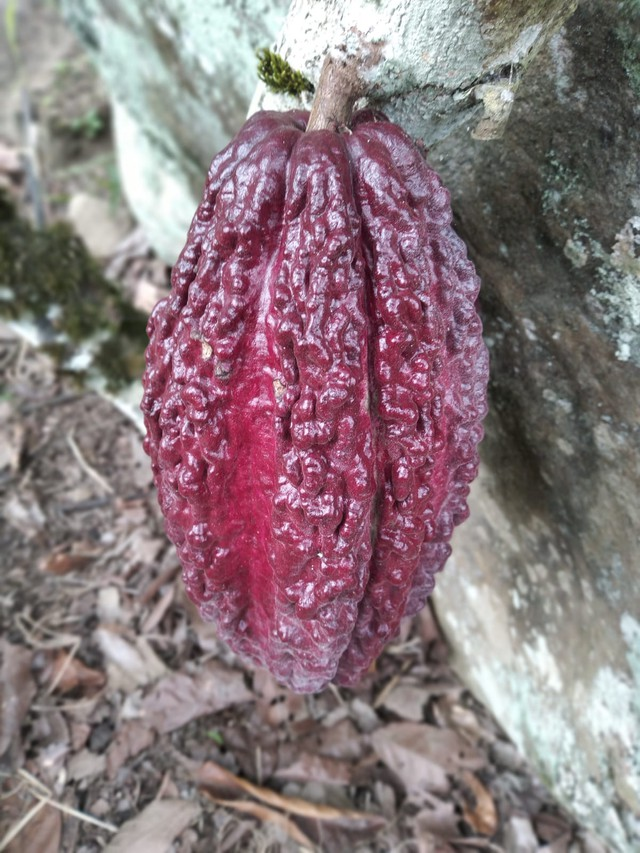Health: (121, 96, 516, 712)
